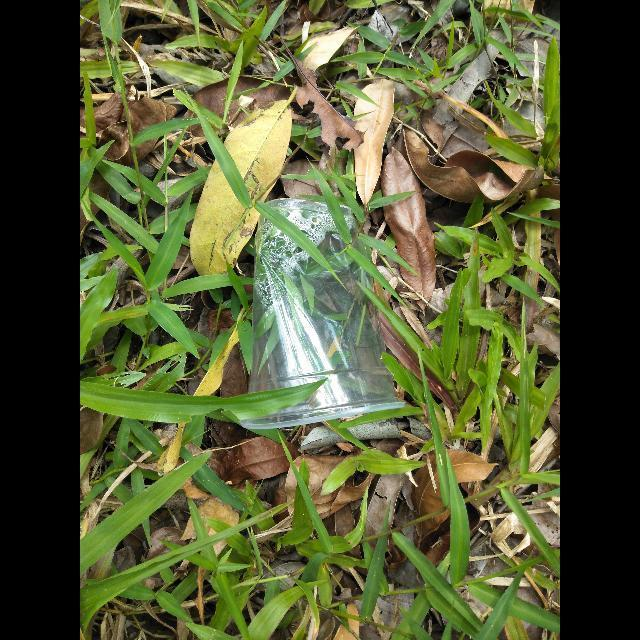Plastic: (240, 198, 406, 428)
